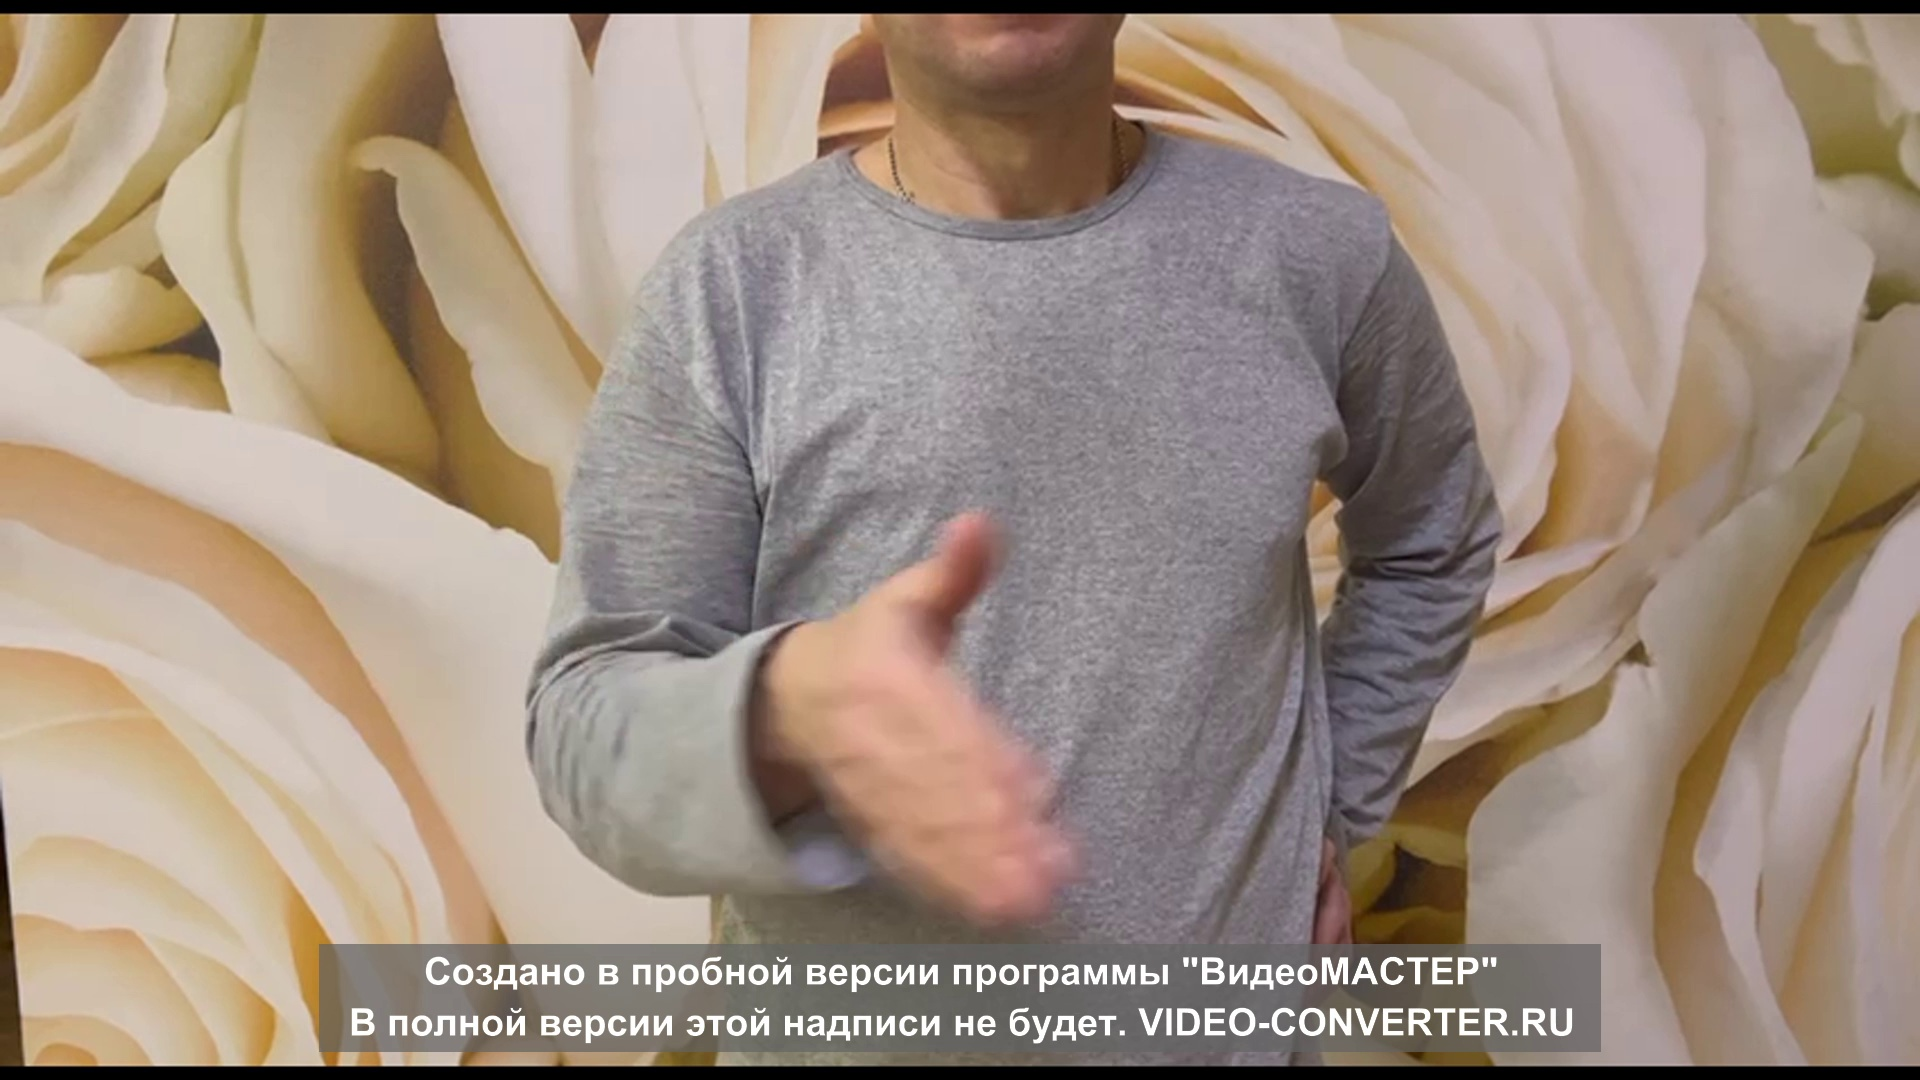Кисть: (782, 512, 1079, 926)
